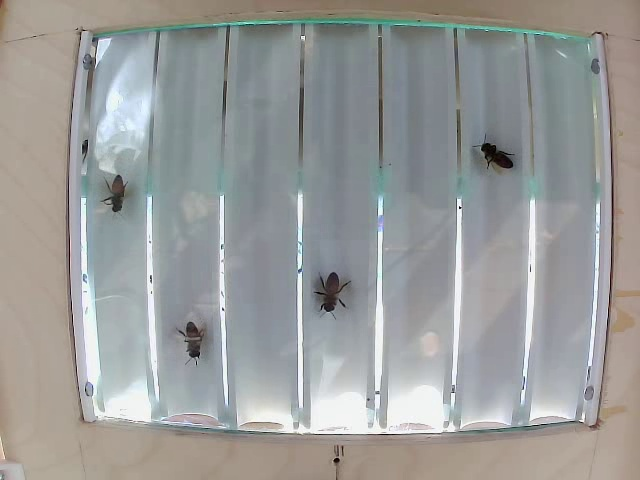bee: (475, 137, 516, 190), (316, 266, 347, 318), (105, 179, 146, 218), (176, 322, 210, 367)
